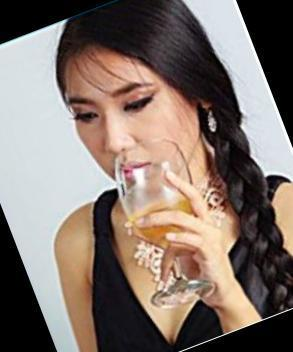Sober: (65, 56, 189, 174)
